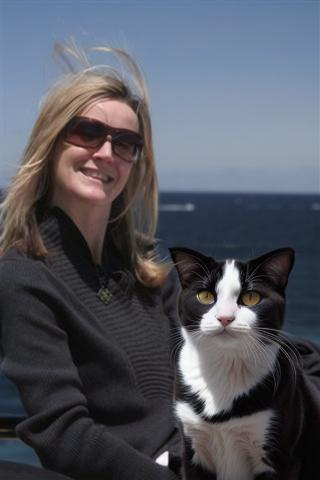cat: (168, 247, 320, 480)
person: (5, 72, 297, 480)
